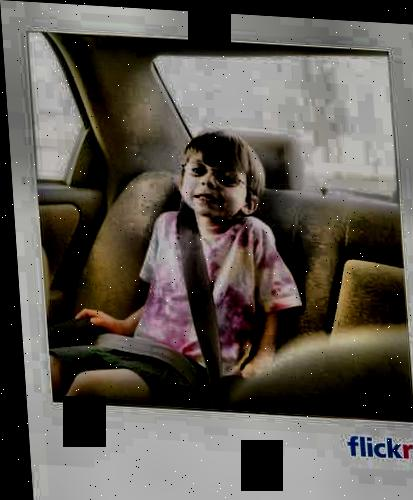seatbelt: (156, 177, 228, 384)
